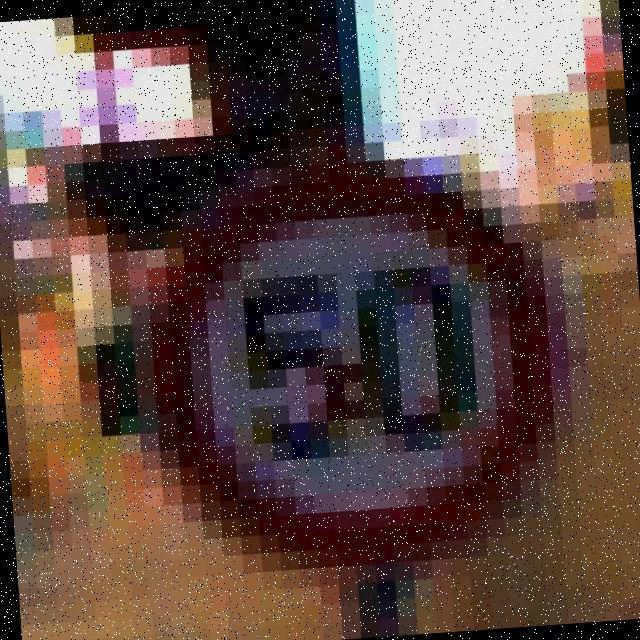Ograniczenie predkosci do 50: (137, 144, 560, 572)
